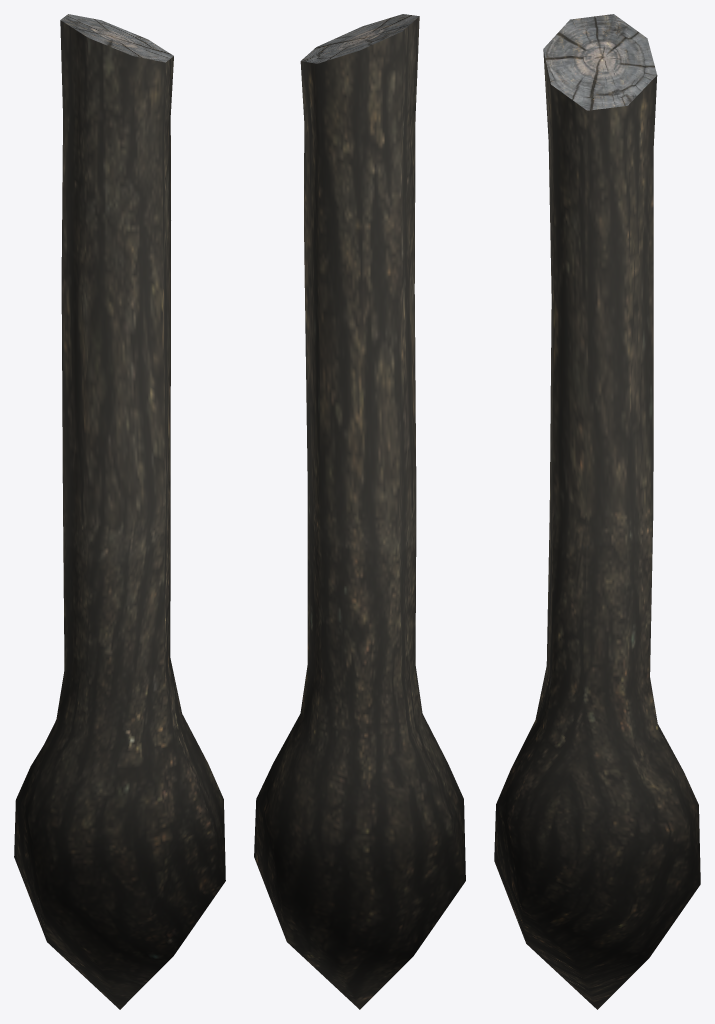
The model's file is MSH_Tree_Stump_Tall_01.fbx.
3 views of the same model, side by side, from view 1: azimuth 30°, elevation 25°; view 2: azimuth 150°, elevation 25°; view 3: azimuth 270°, elevation 25° (orthographic). The views are drawn at different scales.
Parts seen in each view (by area): view 1: MSH_Tree_Stump_Tall_01_LOD0; view 2: MSH_Tree_Stump_Tall_01_LOD0; view 3: MSH_Tree_Stump_Tall_01_LOD0.
Part boxes in pixels (left/top/right/bottom): MSH_Tree_Stump_Tall_01_LOD0: left=14, top=14, right=225, bottom=1009; MSH_Tree_Stump_Tall_01_LOD0: left=254, top=14, right=465, bottom=1009; MSH_Tree_Stump_Tall_01_LOD0: left=494, top=14, right=700, bottom=1009.
Size of what is drawn, in the model's own units: 63.19 by 328 by 63.21.
